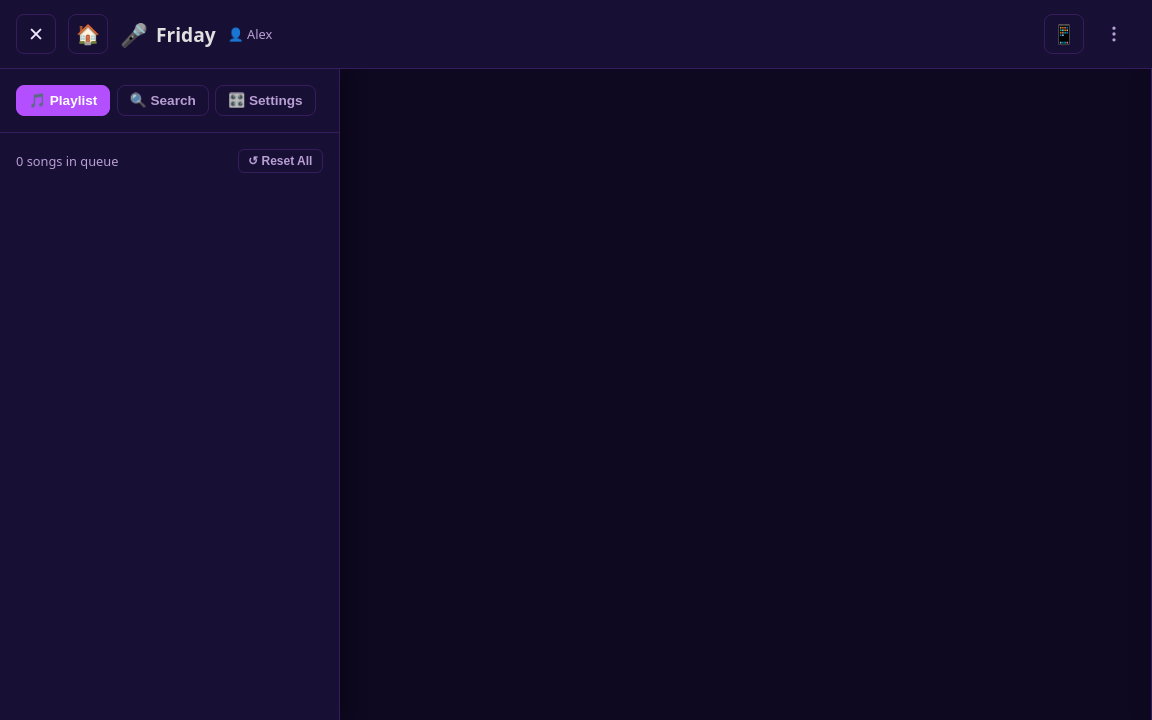
party menu toggles the queue lock when initially locked: true
The width and height of the screenshot is (1152, 720).
Click the button named "Party actions" at (1114, 34), box x1=1092 y1=12 x2=1136 y2=56
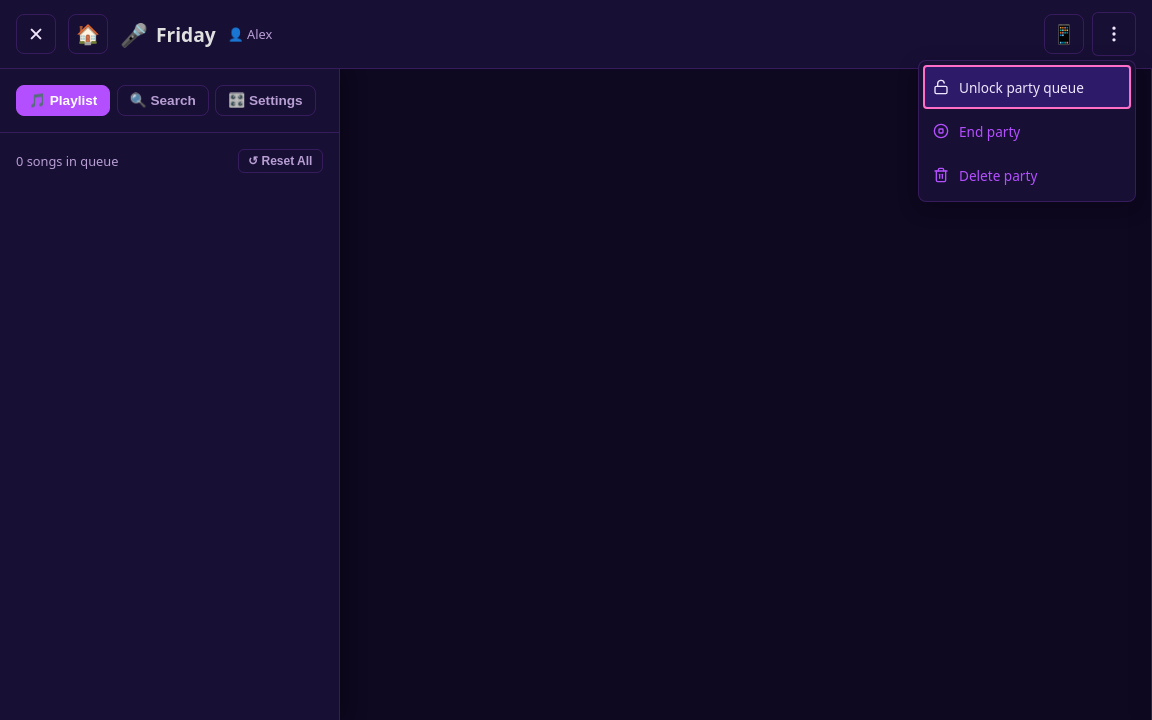
Click the menu item with aria-label "Unlock party queue" at (1027, 87), box x1=923 y1=65 x2=1131 y2=109
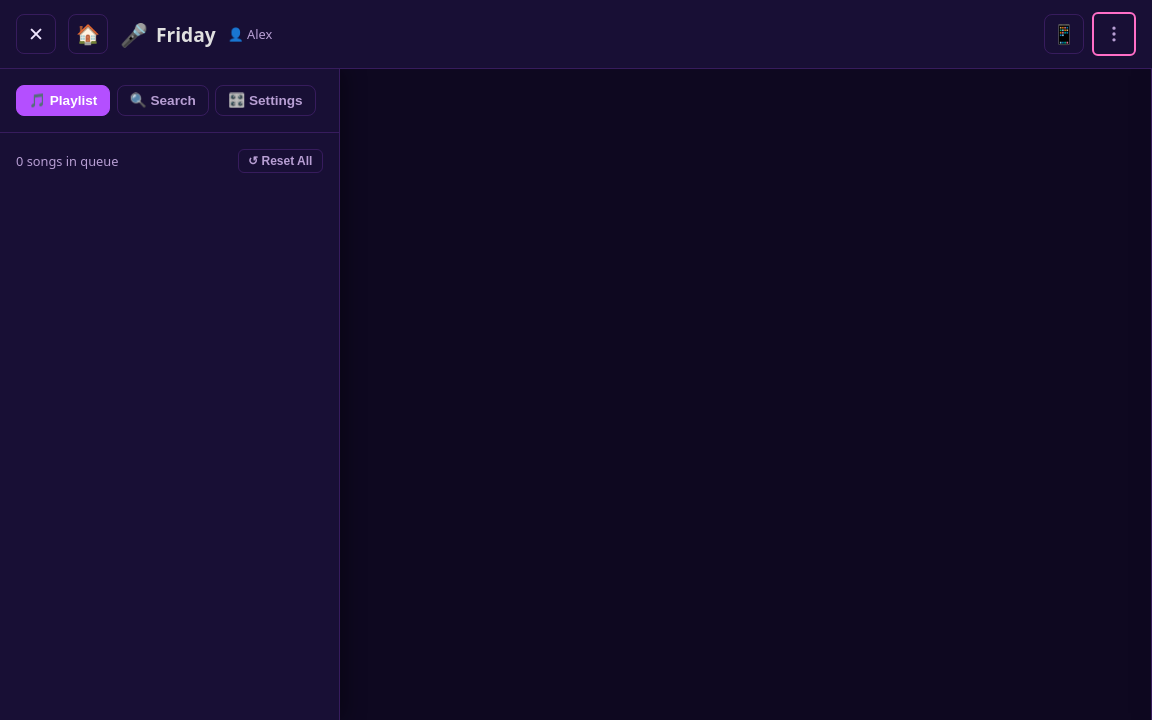
Expected: the menu is gone
Click the button named "Party actions" at (1114, 34), box x1=1092 y1=12 x2=1136 y2=56
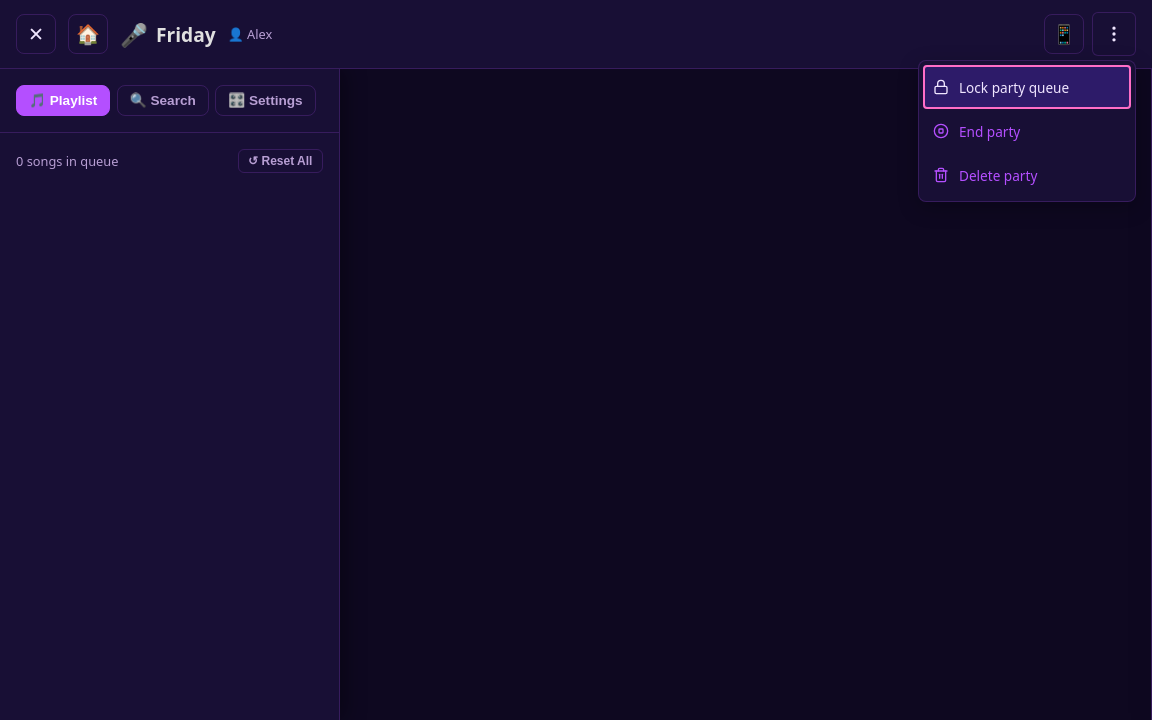
Expected: the menu item with aria-label "Lock party queue" is shown, x1=923 y1=65 x2=1131 y2=109
